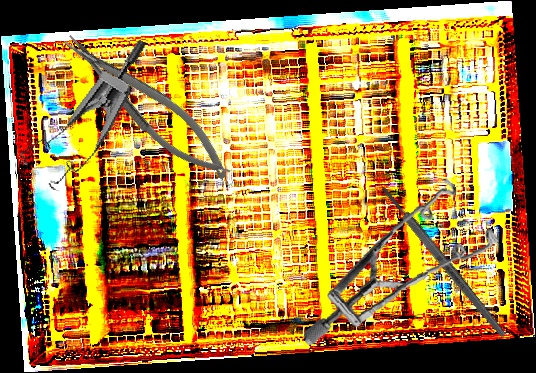Needle Holder: (55, 17, 241, 194)
Scalpel Handle: (378, 183, 509, 341)
Speculum: (291, 174, 507, 346), (12, 15, 149, 204)
